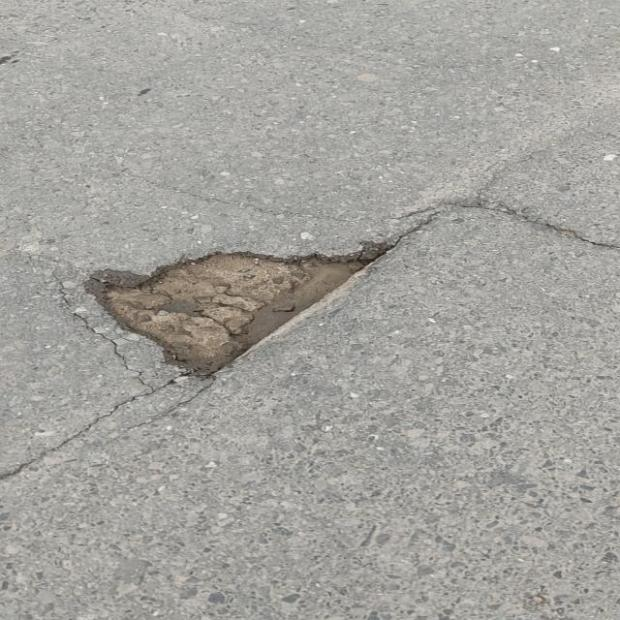lubang: (87, 214, 433, 374)
